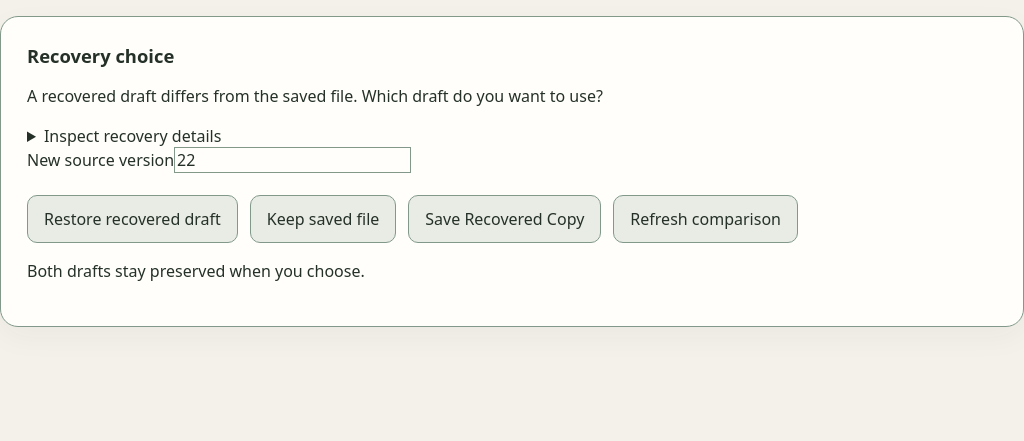
Test: explicit recovery choices › keeps the current file and saves an emergency copy with fixed wording
Click the button "Keep saved file".
click(323, 219)  # box [250, 195, 396, 243]
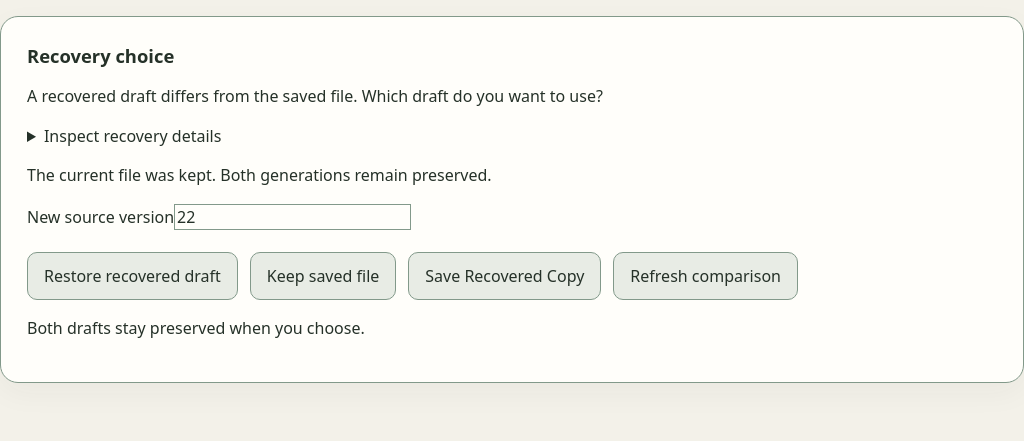
Expected: the text "The current file was kept. Both generations remain preserved." is shown, [27, 164, 492, 186]
Click the button "Save Recovered Copy".
click(505, 276)  # box [408, 252, 601, 300]
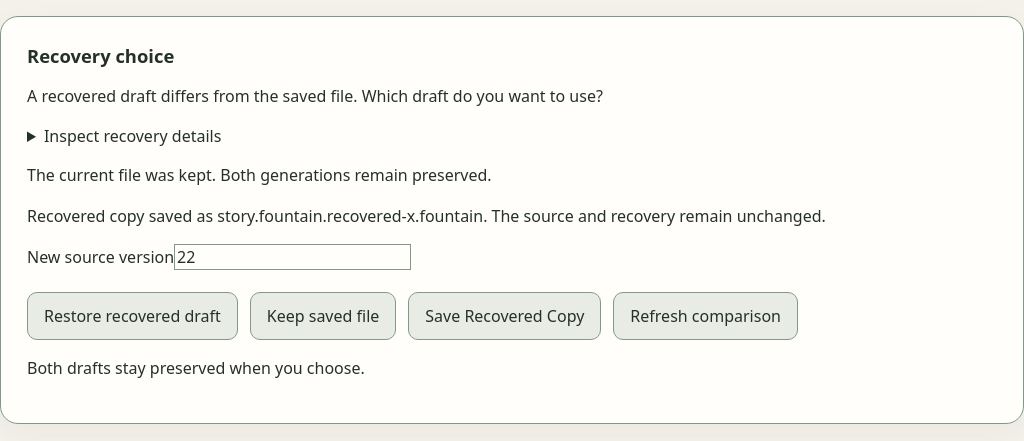
Expected: the text "Recovered copy saved as story.fountain.recovered-x.fountain" is shown, [27, 205, 826, 227]
